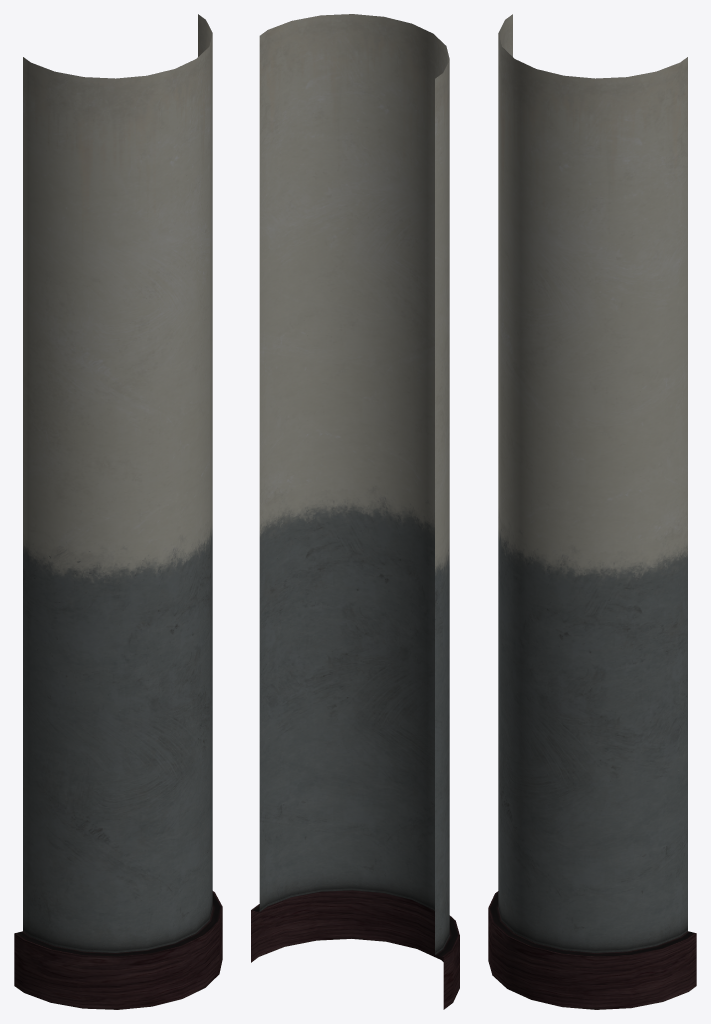
The model's file is Wall 4 Pillar 3.fbx.
3 views of the same model, side by side, from view 1: azimuth 30°, elevation 25°; view 2: azimuth 150°, elevation 25°; view 3: azimuth 330°, elevation 25° (orthographic).
Parts seen in each view (by area): view 1: Wall_4_Pillar_3; view 2: Wall_4_Pillar_3; view 3: Wall_4_Pillar_3.
Part boxes in pixels (x1=…): Wall_4_Pillar_3: x1=14, y1=14, x2=222, y2=1009; Wall_4_Pillar_3: x1=251, y1=14, x2=459, y2=1009; Wall_4_Pillar_3: x1=488, y1=14, x2=696, y2=1009.
Size of the model in its own units: 65.19 by 300 by 32.63.
